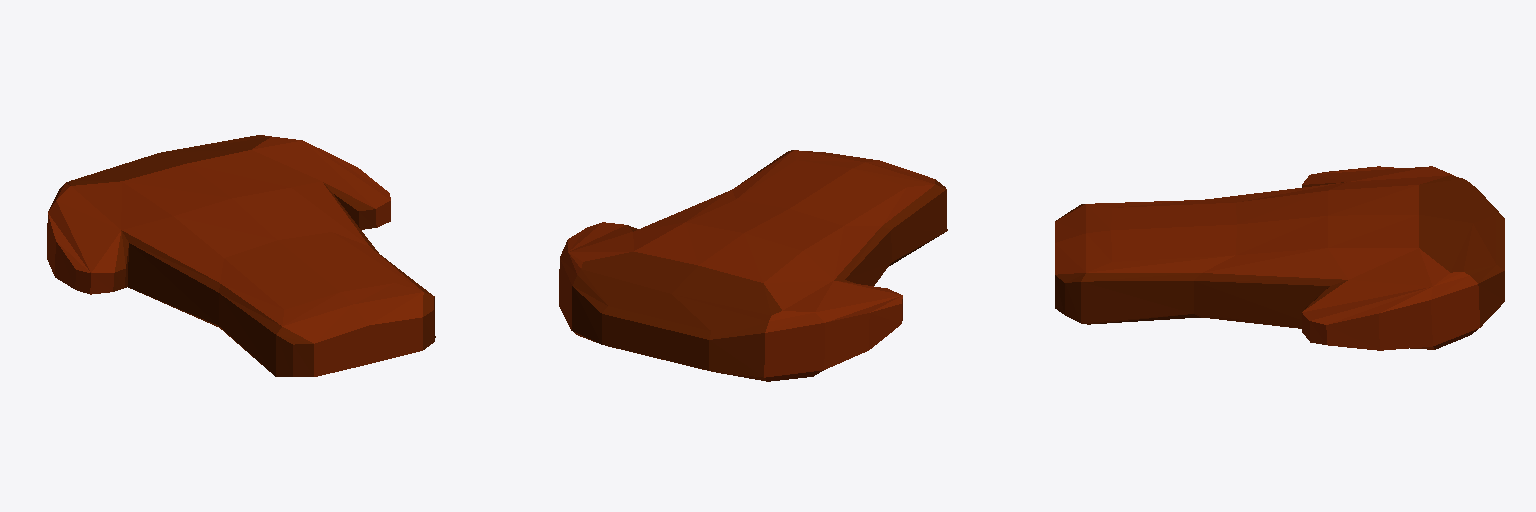
The model's file is QualityTunic.obj.
3 views of the same model, side by side, from view 1: azimuth 30°, elevation 25°; view 2: azimuth 150°, elevation 25°; view 3: azimuth 270°, elevation 25° (orthographic).
Visible parts, largest first — view 1: QualityTunic; view 2: QualityTunic; view 3: QualityTunic.
Part boxes in pixels (left/top/right/bottom): QualityTunic: left=47, top=135, right=435, bottom=376; QualityTunic: left=559, top=150, right=947, bottom=381; QualityTunic: left=1055, top=166, right=1504, bottom=350.
Size of the model in its own units: 0.7995 by 0.2011 by 0.9913.